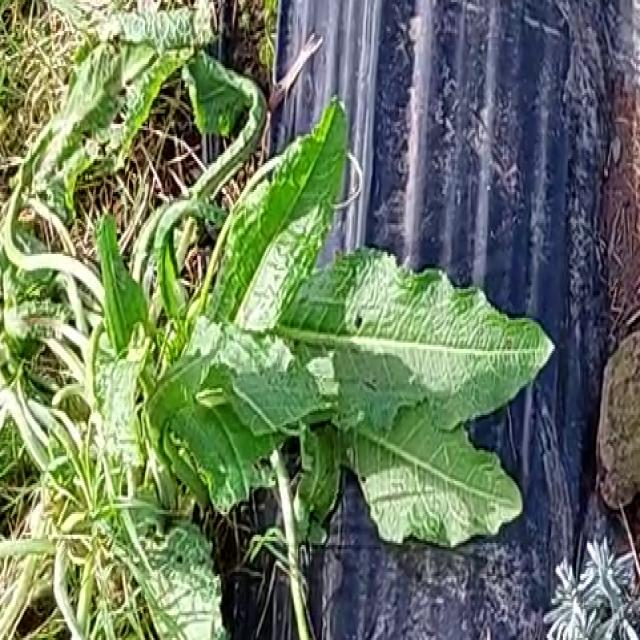organic waste: (1, 0, 583, 595)
